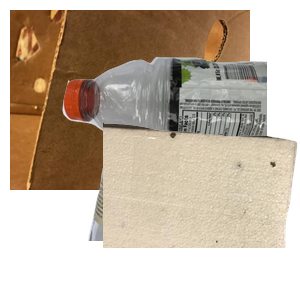cardboard: (10, 10, 250, 190)
glass: (86, 120, 277, 300)
plastic: (60, 53, 300, 201)
trash: (103, 120, 300, 300)
